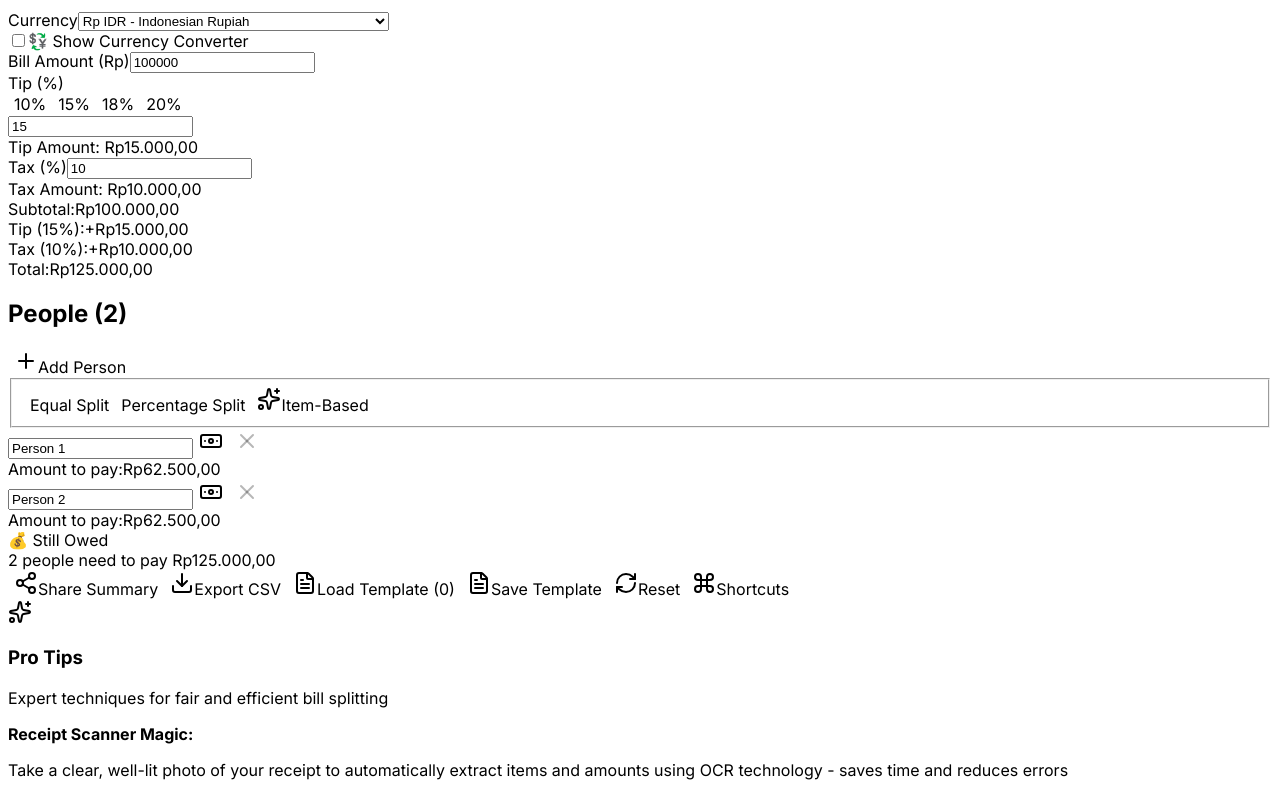
Split Bill Calculator Page › Split Type Modes › should switch to item-based split mode
(page scrolled)
Click the button "Item-Based": [313, 400] box [251, 386, 375, 416]
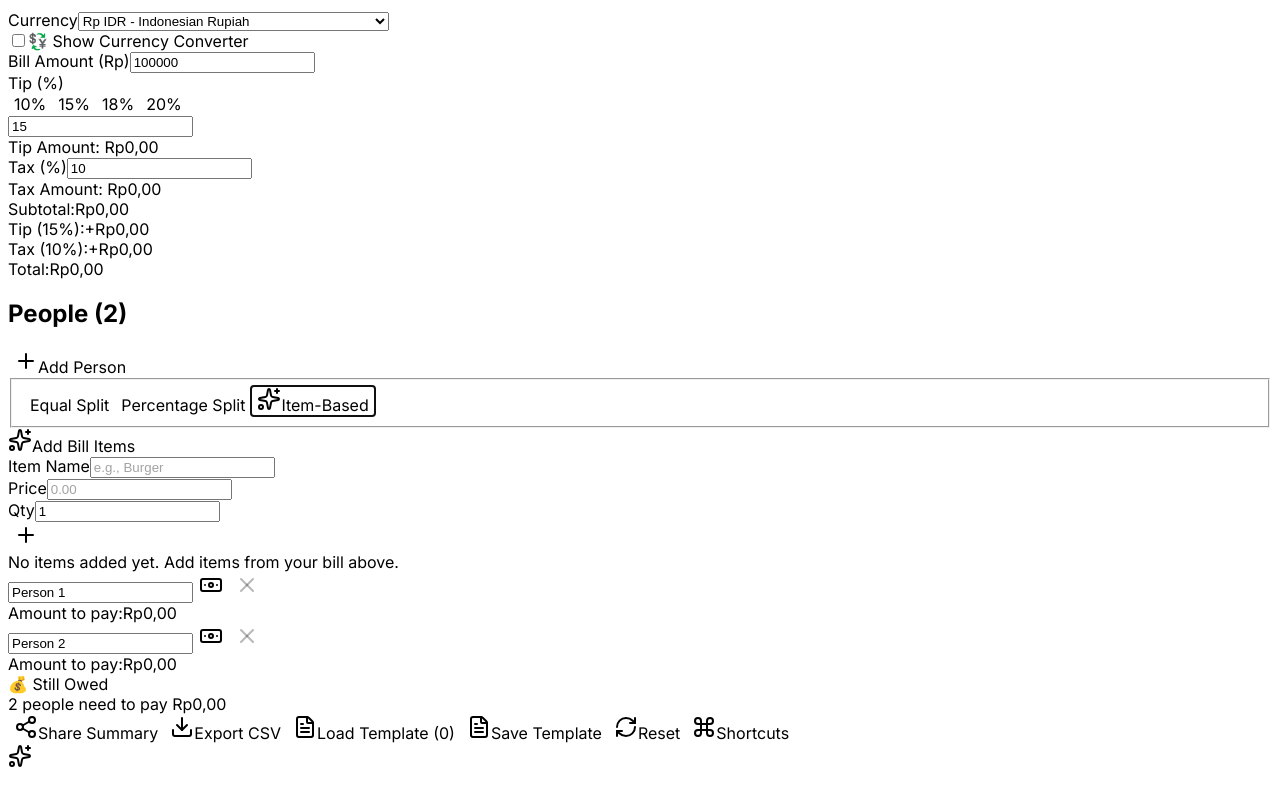
Result: the text "Add Bill Items" is shown at [8, 428, 135, 456]
